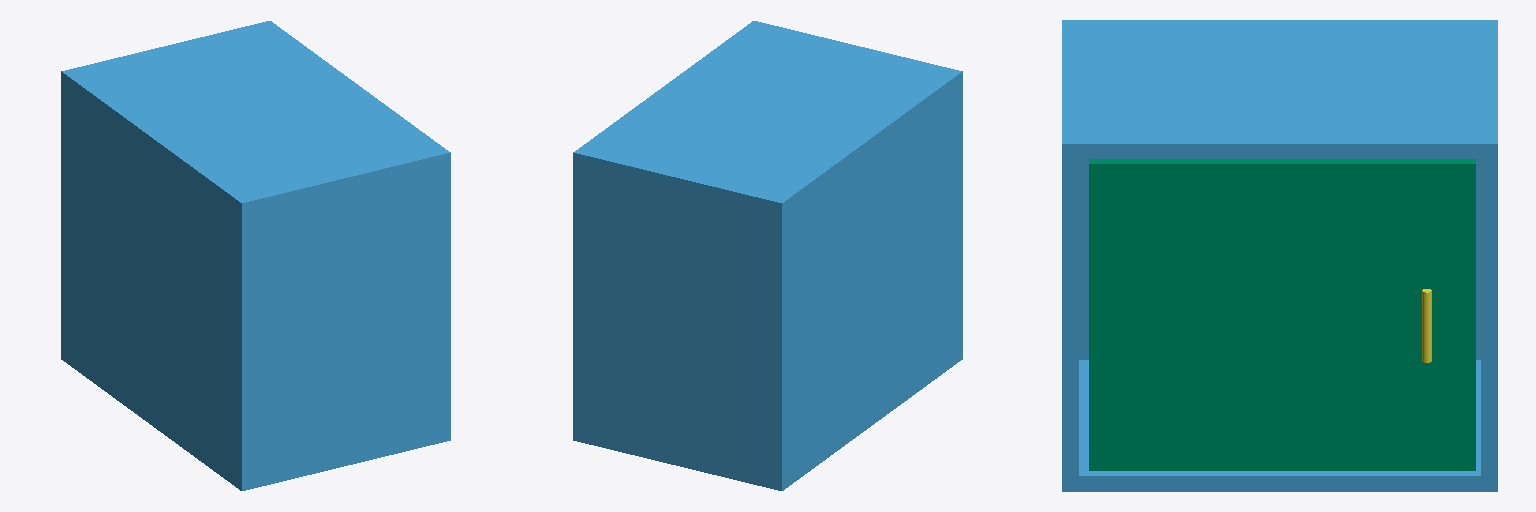
robot.urdf — my_cabinet:
<?xml version="1.0" ?>
<robot name="my_cabinet">
	<link name="world"/>
	<joint name="virtual_joint" type="fixed">
		<parent link="world"/>
		<child link="base_cabinet_link"/>
		<origin xyz="0.0 0.0 0.0" rpy="0.0 0.0 0.0"/>
	</joint>
	<link name="base_cabinet_link">
		<visual>
			<origin xyz="0.0 -0.0025 -0.18874213867824746" rpy="0.0 0.0 0.0"/>
			<geometry>
				<box size="0.3 0.4491093535623712 0.018"/>
			</geometry>
		</visual>
		<collision name="base_cabinet_link_collision_0">
			<origin xyz="0.0 -0.0025 -0.18874213867824746" rpy="0.0 0.0 0.0"/>
			<geometry>
				<box size="0.3 0.4491093535623712 0.018"/>
			</geometry>
		</collision>
		<visual>
			<origin xyz="0.0 0.21305467678118561 0.0" rpy="0.0 0.0 0.0"/>
			<geometry>
				<box size="0.3 0.018 0.39548427735649494"/>
			</geometry>
		</visual>
		<collision name="base_cabinet_link_collision_1">
			<origin xyz="0.0 0.21305467678118561 0.0" rpy="0.0 0.0 0.0"/>
			<geometry>
				<box size="0.3 0.018 0.39548427735649494"/>
			</geometry>
		</collision>
		<visual>
			<origin xyz="0.0 -0.21805467678118562 0.0" rpy="0.0 0.0 0.0"/>
			<geometry>
				<box size="0.3 0.018 0.39548427735649494"/>
			</geometry>
		</visual>
		<collision name="base_cabinet_link_collision_2">
			<origin xyz="0.0 -0.21805467678118562 0.0" rpy="0.0 0.0 0.0"/>
			<geometry>
				<box size="0.3 0.018 0.39548427735649494"/>
			</geometry>
		</collision>
		<visual>
			<origin xyz="0.0 -0.0025 0.18874213867824746" rpy="0.0 0.0 0.0"/>
			<geometry>
				<box size="0.3 0.4491093535623712 0.018"/>
			</geometry>
		</visual>
		<collision name="base_cabinet_link_collision_3">
			<origin xyz="0.0 -0.0025 0.18874213867824746" rpy="0.0 0.0 0.0"/>
			<geometry>
				<box size="0.3 0.4491093535623712 0.018"/>
			</geometry>
		</collision>
		<visual>
			<origin xyz="-0.141 -0.0025 0.0" rpy="0.0 0.0 0.0"/>
			<geometry>
				<box size="0.018 0.4491093535623712 0.39548427735649494"/>
			</geometry>
		</visual>
		<collision name="base_cabinet_link_collision_4">
			<origin xyz="-0.141 -0.0025 0.0" rpy="0.0 0.0 0.0"/>
			<geometry>
				<box size="0.018 0.4491093535623712 0.39548427735649494"/>
			</geometry>
		</collision>
		<inertial>
			<mass value="0.200000"/>
			<inertia ixx="0.005968" ixy="0.0" ixz="0.0" iyy="0.004107" iyz="0.0" izz="0.004862"/>
		</inertial>
	</link>
	<link name="door_link">
		<visual>
			<origin xyz="0.0 -0.1990546767811856 0.0"/>
			<geometry>
				<box size="0.018 0.3981093535623712 0.3494842773564949"/>
			</geometry>
		</visual>
		<collision name="door_link_collision">
			<origin xyz="0.0 -0.1990546767811856 0.0"/>
			<geometry>
				<box size="0.018 0.3981093535623712 0.3494842773564949"/>
			</geometry>
		</collision>
		<inertial>
			<mass value="0.200000"/>
			<inertia ixx="0.004677" ixy="0.0" ixz="0.0" iyy="0.002041" iyz="0.0" izz="0.002647"/>
		</inertial>
	</link>
	<joint name="door_joint" type="revolute">
		<origin xyz="0.141 -0.1990546767811856 0.0" rpy="0.000000 -0.000000 3.141593"/>
		<axis xyz="0 0 1"/>
		<parent link="base_cabinet_link"/>
		<child link="door_link"/>
		<limit effort="50" lower="-1.658062789394613" upper="0" velocity="10"/>
		<dynamics friction="3.5" damping="3.5"/>
	</joint>
	<link name="handle_link">
		<visual>
			<origin xyz="0.0 0.0 0.0" rpy="0.0 0.0 0.0"/>
			<geometry>
				<cylinder length="0.08" radius="0.005"/>
			</geometry>
		</visual>
		<collision name="handle_link_collision_0">
			<origin xyz="0.0 0.0 0.0" rpy="0.0 0.0 0.0"/>
			<geometry>
				<cylinder length="0.08" radius="0.005"/>
			</geometry>
		</collision>
		<visual>
			<origin xyz="-0.01 0.0 0.02" rpy="0.0 1.5707963267948966 0.0"/>
			<geometry>
				<cylinder length="0.02" radius="0.003"/>
			</geometry>
		</visual>
		<collision name="handle_link_collision_1">
			<origin xyz="-0.01 0.0 0.02" rpy="0.0 1.5707963267948966 0.0"/>
			<geometry>
				<cylinder length="0.01" radius="0.003"/>
			</geometry>
		</collision>
		<visual>
			<origin xyz="-0.01 0.0 -0.02" rpy="0.0 1.5707963267948966 0.0"/>
			<geometry>
				<cylinder length="0.02" radius="0.003"/>
			</geometry>
		</visual>
		<collision name="handle_link_collision_2">
			<origin xyz="-0.01 0.0 -0.02" rpy="0.0 1.5707963267948966 0.0"/>
			<geometry>
				<cylinder length="0.02" radius="0.003"/>
			</geometry>
		</collision>
		<inertial>
			<mass value="0.050000"/>
			<inertia ixx="0.000027" ixy="0.0" ixz="0.0" iyy="0.000029" iyz="0.0" izz="0.000003"/>
		</inertial>
	</link>
	<joint name="handle_joint" type="fixed">
		<origin xyz="-0.028999999999999998 -0.3481093535623712 0.0" rpy="0.000000 -0.000000 3.141593"/>
		<parent link="door_link"/>
		<child link="handle_link"/>
	</joint>
	<gazebo reference="base_cabinet_link">
		<sensor name="main_sensor" type="contact">
			<selfCollide>true</selfCollide>
			<alwaysOn>true</alwaysOn>
			<updateRate>5.0</updateRate>
			<material>Gazebo/Red</material>
			<contact>
				<collision>base_cabinet_link_collision_0_collision</collision>
				<collision>base_cabinet_link_collision_1_collision</collision>
				<collision>base_cabinet_link_collision_2_collision</collision>
				<collision>base_cabinet_link_collision_3_collision</collision>
				<collision>base_cabinet_link_collision_4_collision</collision>
			</contact>
			<plugin name="gazebo_ros_bumper_controller" filename="libgazebo_ros_bumper.so">
				<bumperTopicName>/contact</bumperTopicName>
				<frameName>world</frameName>
			</plugin>
		</sensor>
	</gazebo>
	<gazebo reference="door_link">
		<sensor name="main_sensor" type="contact">
			<selfCollide>true</selfCollide>
			<alwaysOn>true</alwaysOn>
			<updateRate>5.0</updateRate>
			<material>Gazebo/Red</material>
			<contact>
				<collision>door_link_collision_collision</collision>
			</contact>
			<plugin name="gazebo_ros_bumper_controller" filename="libgazebo_ros_bumper.so">
				<bumperTopicName>/contact_door</bumperTopicName>
				<frameName>contact_door</frameName>
			</plugin>
		</sensor>
	</gazebo>
	<gazebo reference="door_link">
		<mu>3.0</mu>
		<mu2>3.0</mu2>
		<kp>10000000</kp>
		<kd>100</kd>
	</gazebo>
</robot>

--- Render facts (derived) ---
The picture shows the robot from 3 angles, left to right: view 1: azimuth 30°, elevation 25°; view 2: azimuth 150°, elevation 25°; view 3: azimuth 270°, elevation 25°; orthographic projection.
Model my_cabinet with 4 links and 3 joints (1 revolute, 2 fixed), rooted at world, posed every joint at zero.
Links seen in each view (by area): view 1: base_cabinet_link; view 2: base_cabinet_link; view 3: door_link, base_cabinet_link, handle_link.
Link boxes in pixels (x1,y1,x2,y2): base_cabinet_link: (61, 21, 450, 490); base_cabinet_link: (573, 21, 962, 490); door_link: (1089, 159, 1475, 470); base_cabinet_link: (1062, 20, 1497, 491); handle_link: (1422, 289, 1431, 362).
Size in the robot's own frame: 0.325 by 0.4491 by 0.3955 metres.
Geometry: primitives only (box / cylinder / sphere), no mesh files.
